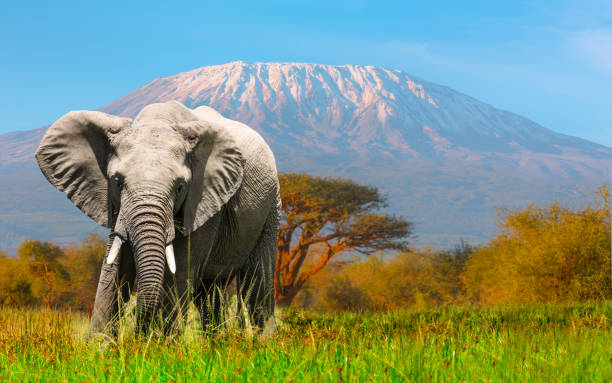africanelephant: (73, 116, 214, 294)
